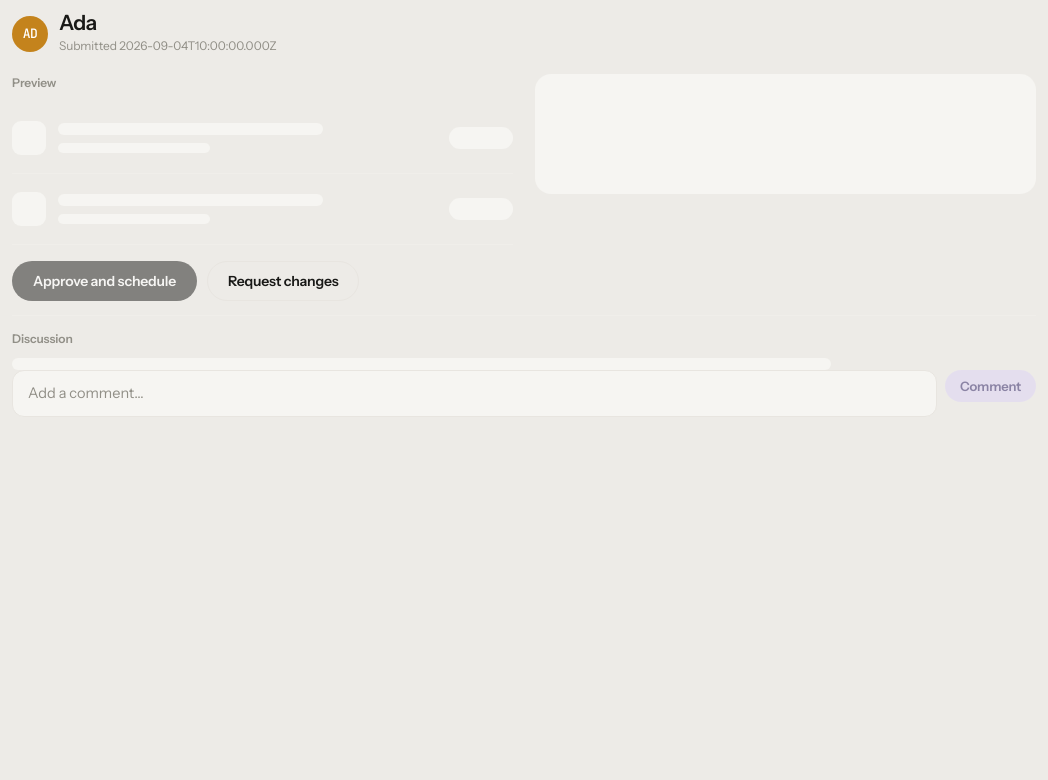
Test: request changes requires a note › the send button is disabled until a note is typed
This screenshot has width=1048, height=780.
Click the button "Request changes" at (283, 281), box [207,261,360,301]
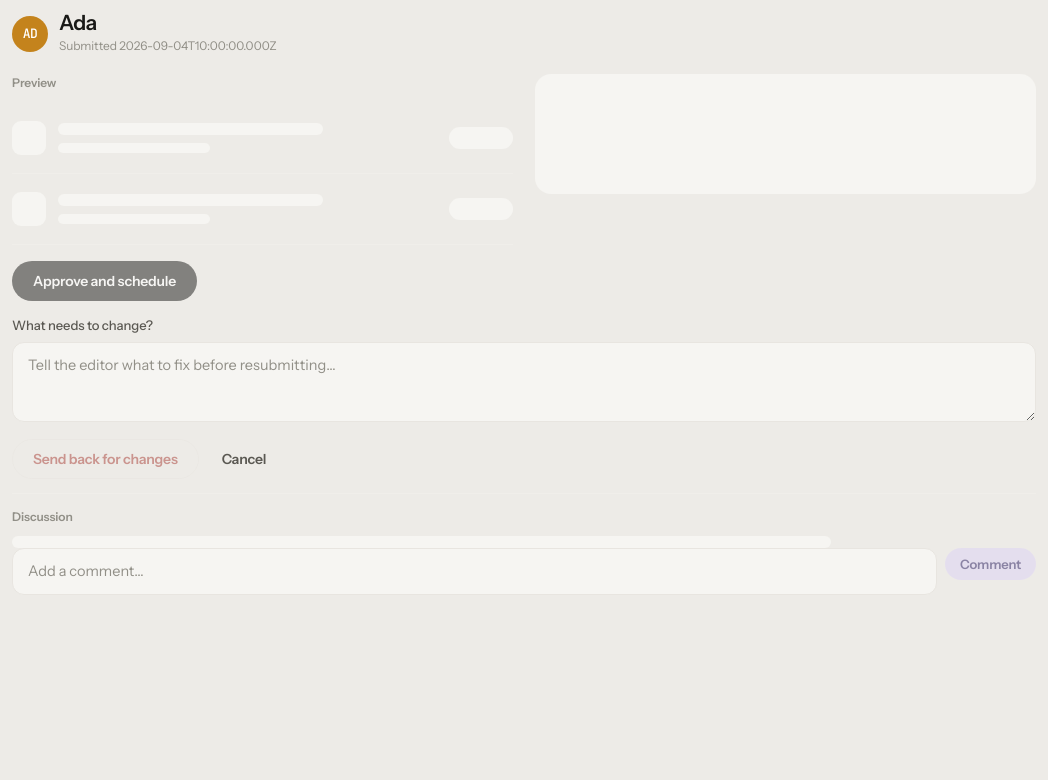
Check: the button "Send back for changes" is disabled, box [12,438,199,478]
Type "Trim the caption" into the text box named "what needs to change" at (524, 382), box [12,342,1036,422]
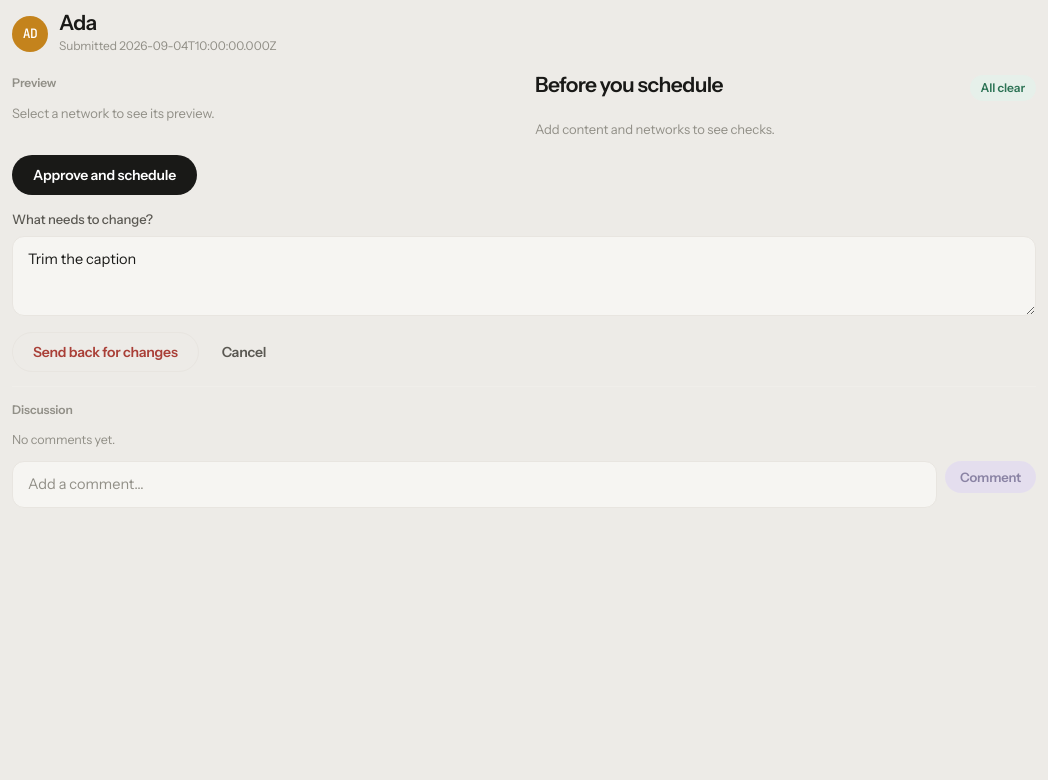
Check: the button "Send back for changes" is enabled, box [12,332,199,372]
